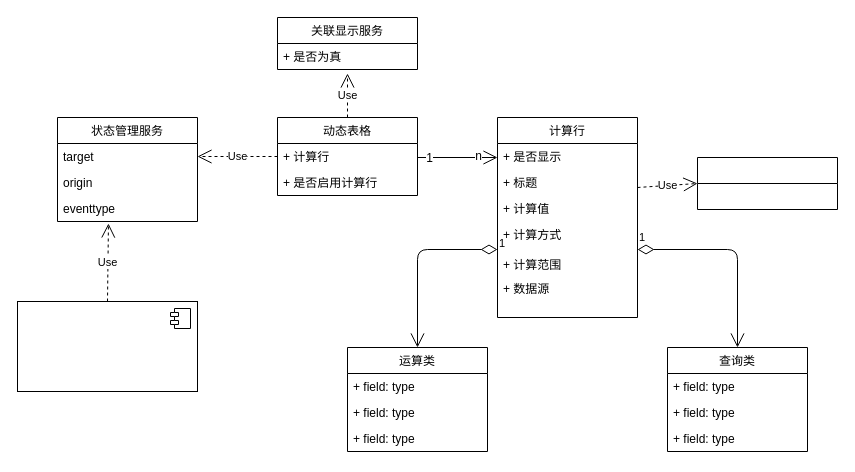
This 855x472 diagram has some shape labels left out. Each missing label, with the centre of its shape:
库表操作服务: [767,183]
表单控件: [107,346]
